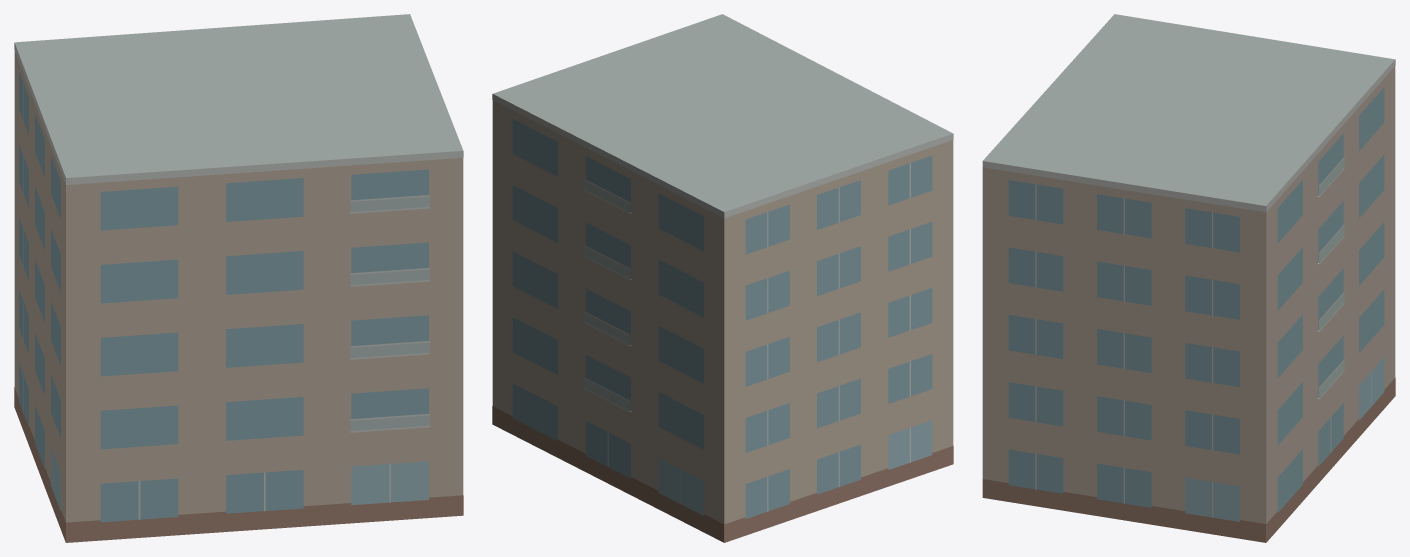
File: survey-upis-33036488.glb
The picture shows the model from 3 angles, left to right: view 1: azimuth 30°, elevation 25°; view 2: azimuth 150°, elevation 25°; view 3: azimuth 270°, elevation 25°; orthographic projection. The views are drawn at different scales.
Visible parts, largest first — view 1: survey-upis-33036488.tmp; view 2: survey-upis-33036488.tmp; view 3: survey-upis-33036488.tmp.
Boxes of the visible parts, x1,y1,x2,y2 form: survey-upis-33036488.tmp: (14,14,463,542); survey-upis-33036488.tmp: (492,14,953,542); survey-upis-33036488.tmp: (982,14,1395,542).
Bounding box in the file's own units: 15.79 × 12.9 × 14.34.
